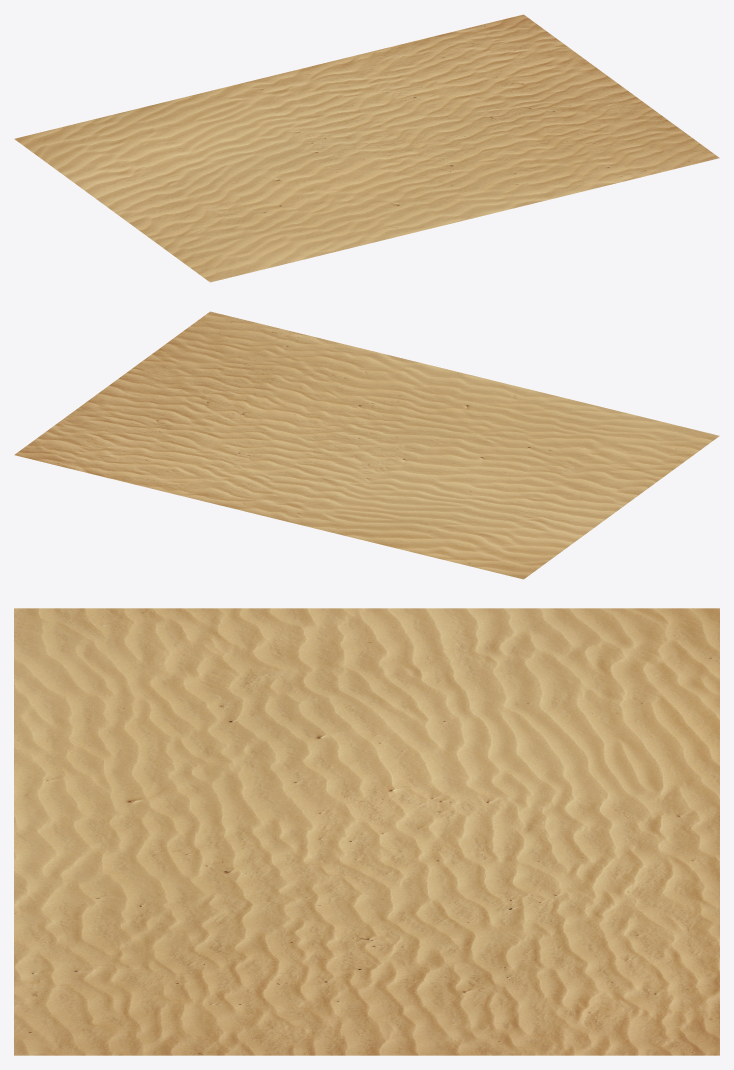
File: ocean.glb
3 renders of one model, top to bottom at view 1: azimuth 30°, elevation 25°; view 2: azimuth 150°, elevation 25°; view 3: azimuth 270°, elevation 25°, orthographic. The views are drawn at different scales.
Parts seen in each view (by area): view 1: Plane; view 2: Plane; view 3: Plane.
Boxes of the visible parts, x1,y1,x2,y2 form: Plane: [14, 14, 719, 282]; Plane: [14, 311, 719, 579]; Plane: [14, 608, 719, 1055].
Size of the model in its own units: 60 by 0.4133 by 40.
1 material, 1 textured.
